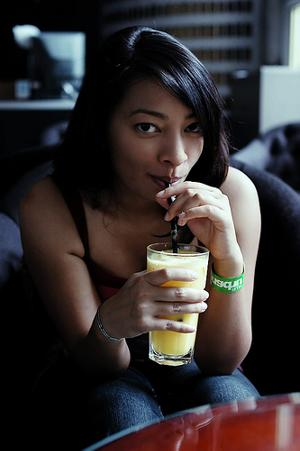person: (17, 29, 264, 428)
